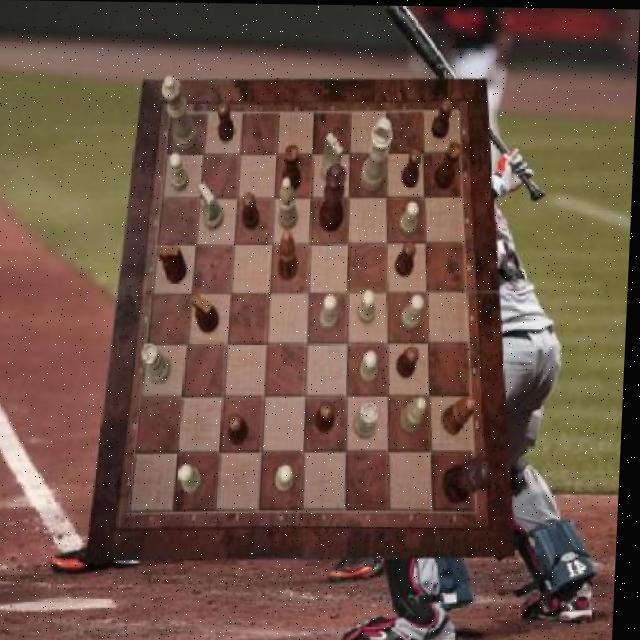bishop: (445, 395, 479, 433), (279, 228, 301, 279)
black-bishop: (446, 455, 495, 503)
black-king: (192, 293, 221, 334), (159, 245, 190, 283)
black-knight: (432, 99, 454, 139), (402, 148, 422, 187), (398, 345, 422, 377), (217, 103, 236, 143), (397, 240, 418, 276), (231, 413, 252, 445), (243, 192, 261, 229), (318, 401, 338, 432)
black-pawn: (320, 162, 347, 232)
black-queen: (434, 139, 463, 187), (284, 144, 303, 191)
black-rook: (281, 177, 301, 230), (404, 394, 430, 432)
white-bishop: (360, 115, 393, 190)
white-king: (198, 183, 226, 230), (322, 131, 345, 183)
white-knight: (403, 294, 427, 329), (170, 153, 190, 192), (399, 200, 421, 235), (181, 464, 205, 495), (322, 293, 341, 330), (361, 289, 379, 324), (362, 349, 380, 383), (279, 464, 298, 491)
white-pawn: (160, 74, 200, 149)
white-queen: (144, 343, 176, 384), (356, 401, 382, 438)
